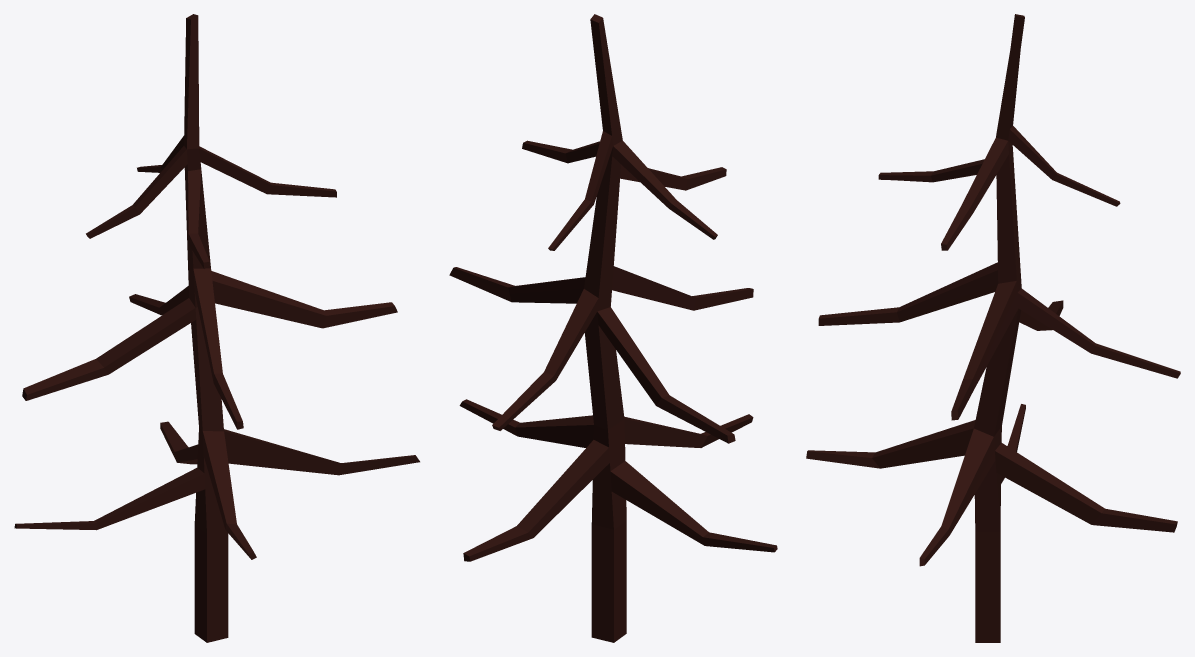
File: hell_tree_2.fbx
3 renders of one model, left to right at view 1: azimuth 30°, elevation 25°; view 2: azimuth 150°, elevation 25°; view 3: azimuth 270°, elevation 25°, orthographic. The views are drawn at different scales.
Parts seen in each view (by area): view 1: hell_tree_2_LOD0; view 2: hell_tree_2_LOD0; view 3: hell_tree_2_LOD0.
Boxes of the visible parts, x1,y1,x2,y2 form: hell_tree_2_LOD0: (14, 14, 419, 642); hell_tree_2_LOD0: (449, 14, 777, 642); hell_tree_2_LOD0: (806, 14, 1180, 642).
Size of what is drawn, in the model's own units: 8.53 by 7.67 by 14.04.
